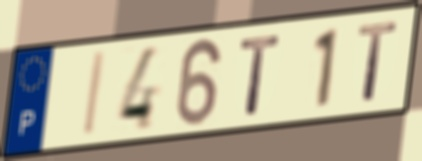1: (311, 25, 344, 110)
4: (112, 44, 162, 134)
6: (174, 36, 224, 129)
I: (80, 49, 109, 140)
T: (237, 31, 285, 117), (354, 18, 401, 104)
